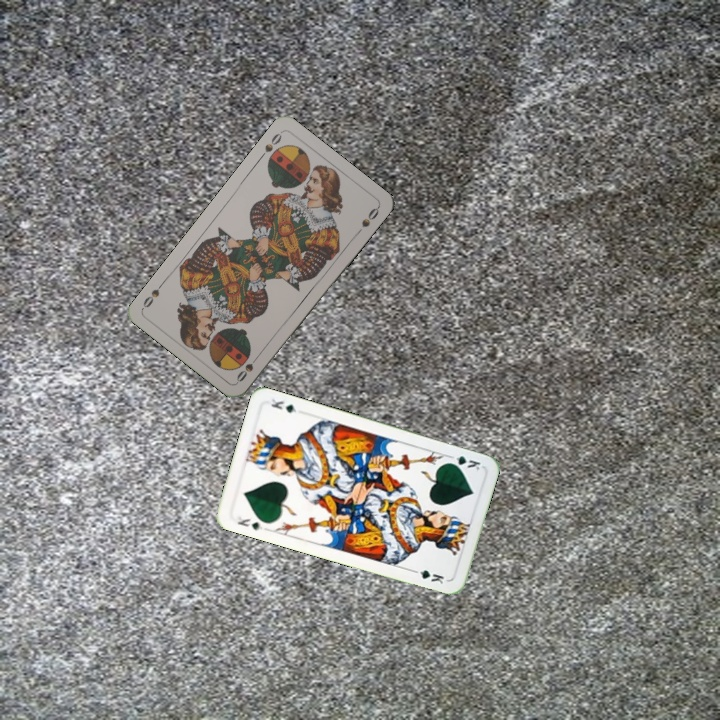GK: (443, 451, 483, 474), (233, 512, 265, 533)
SO: (232, 350, 263, 385), (255, 128, 284, 162)
